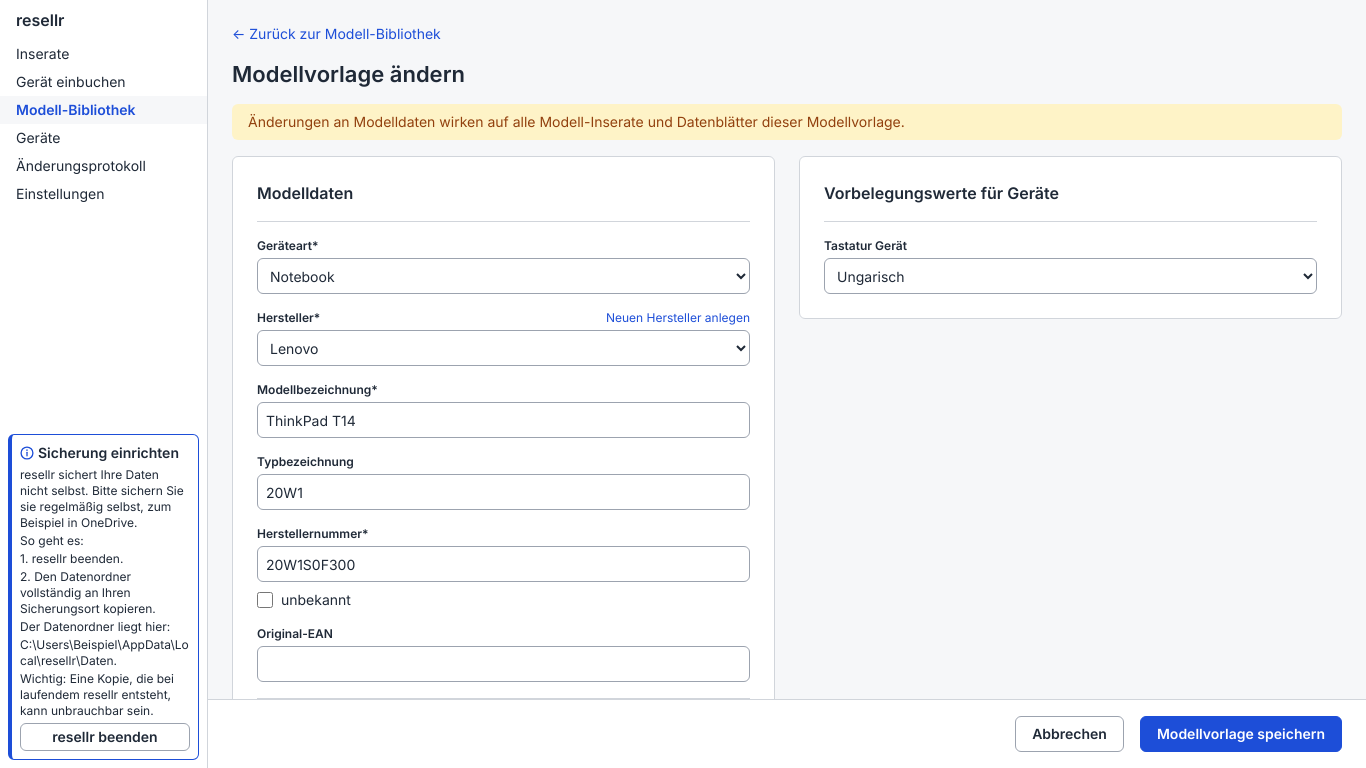
Test case: UI-007 changing a model template (CU-114, #181) › UI-007.speichert shows "Speichern …" and locks the inputs while PATCH runs
Expected: the form named "Modellvorlage ändern" is shown, [232,156,1342,699]
Click the button "Modellvorlage speichern" at (1241, 734), box [1140,716,1342,752]
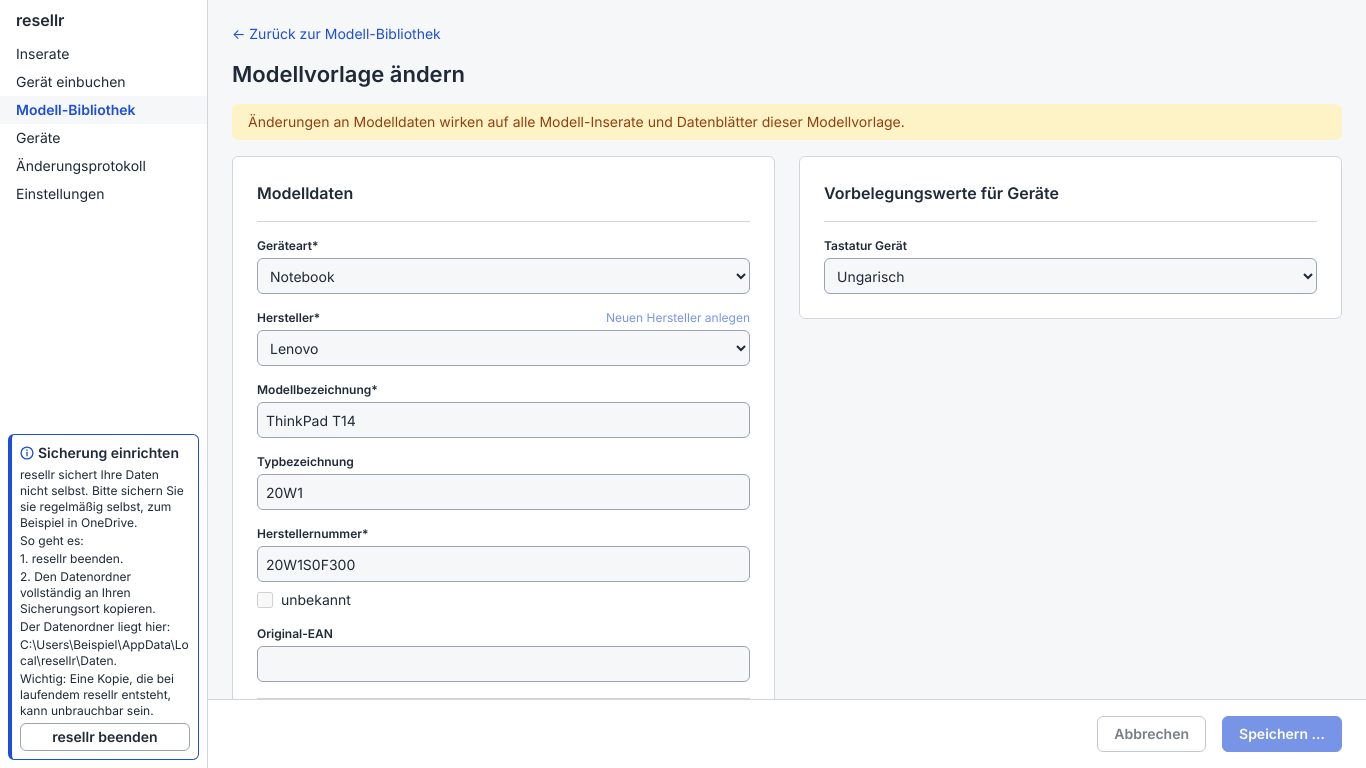
Expected: the heading "Modellvorlage ändern" is shown, [232,61,465,87]
Expected: the button "Speichern …" is shown, [1222,716,1342,752]
Expected: the button "Speichern …" is disabled, [1222,716,1342,752]
